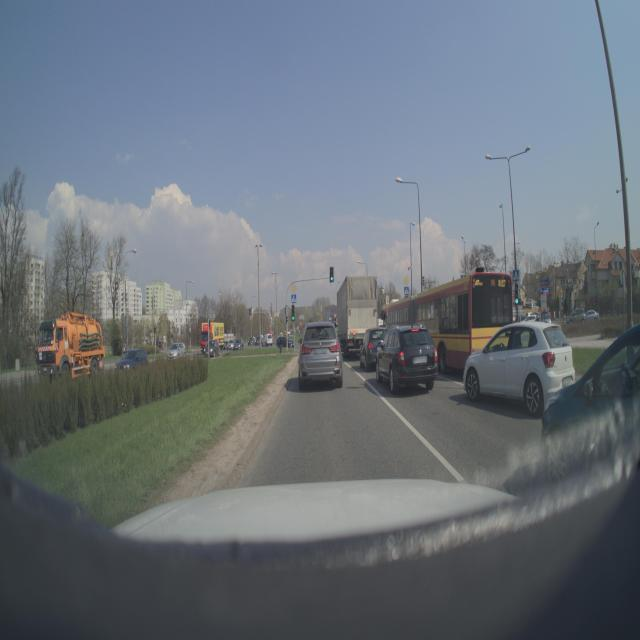green_light: (290, 304, 296, 322), (329, 266, 335, 284)
